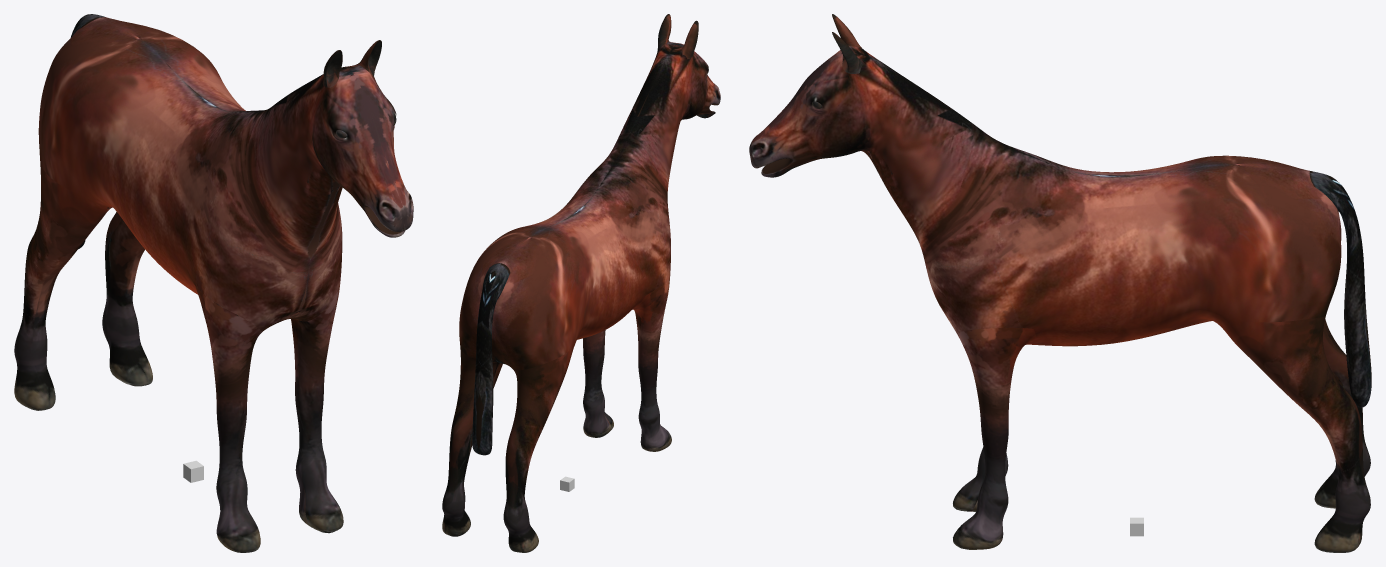
The model's file is horse.fbx.
The picture shows the model from 3 angles, left to right: view 1: azimuth 30°, elevation 25°; view 2: azimuth 150°, elevation 25°; view 3: azimuth 270°, elevation 25°; orthographic projection. The views are drawn at different scales.
Parts seen in each view (by area): view 1: 10026_Horse_v01-it2; view 2: 10026_Horse_v01-it2; view 3: 10026_Horse_v01-it2.
Boxes of the visible parts, <box> form: 10026_Horse_v01-it2: <box>14,14,413,552</box>; 10026_Horse_v01-it2: <box>442,14,720,552</box>; 10026_Horse_v01-it2: <box>749,14,1371,552</box>.
Size of the model in its own units: 2133 by 8097 by 8957.
